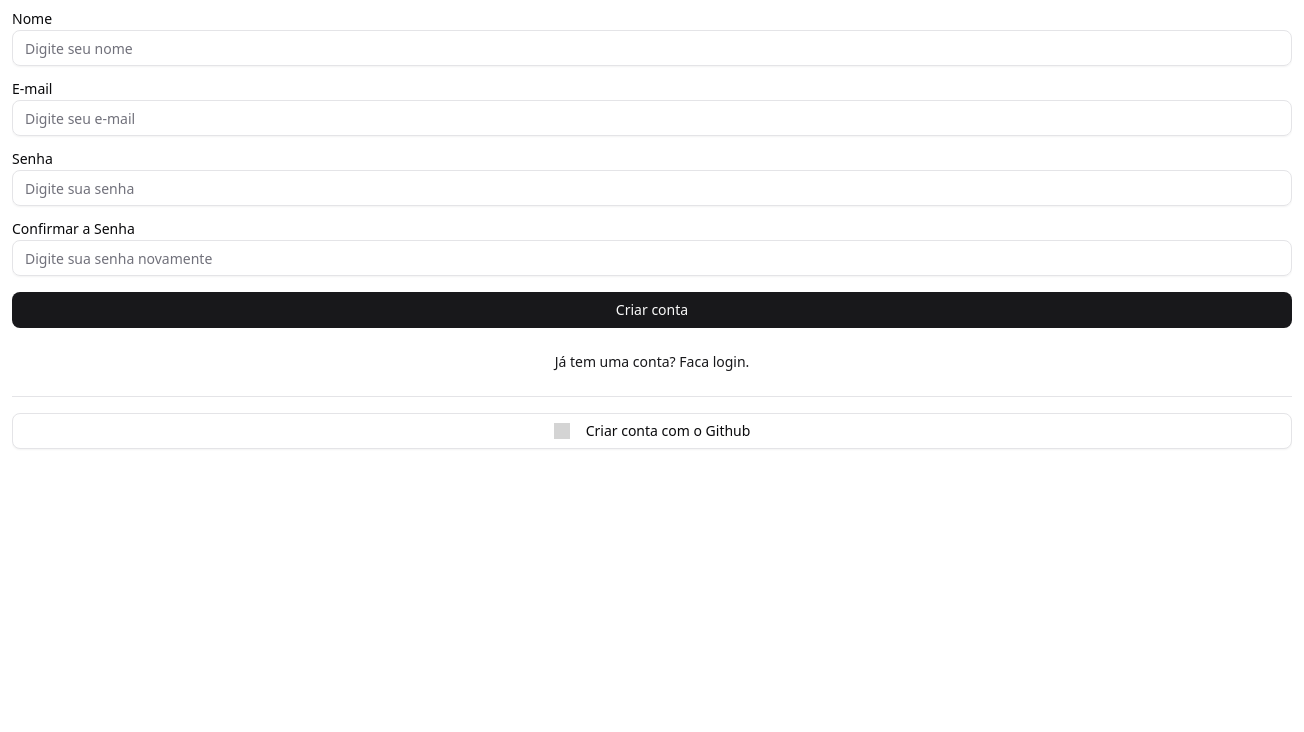
Test: <SignUpForm /> › should show multiple field validation errors
Click the button "Criar conta".
click(652, 310)  # box left=12, top=292, right=1292, bottom=328
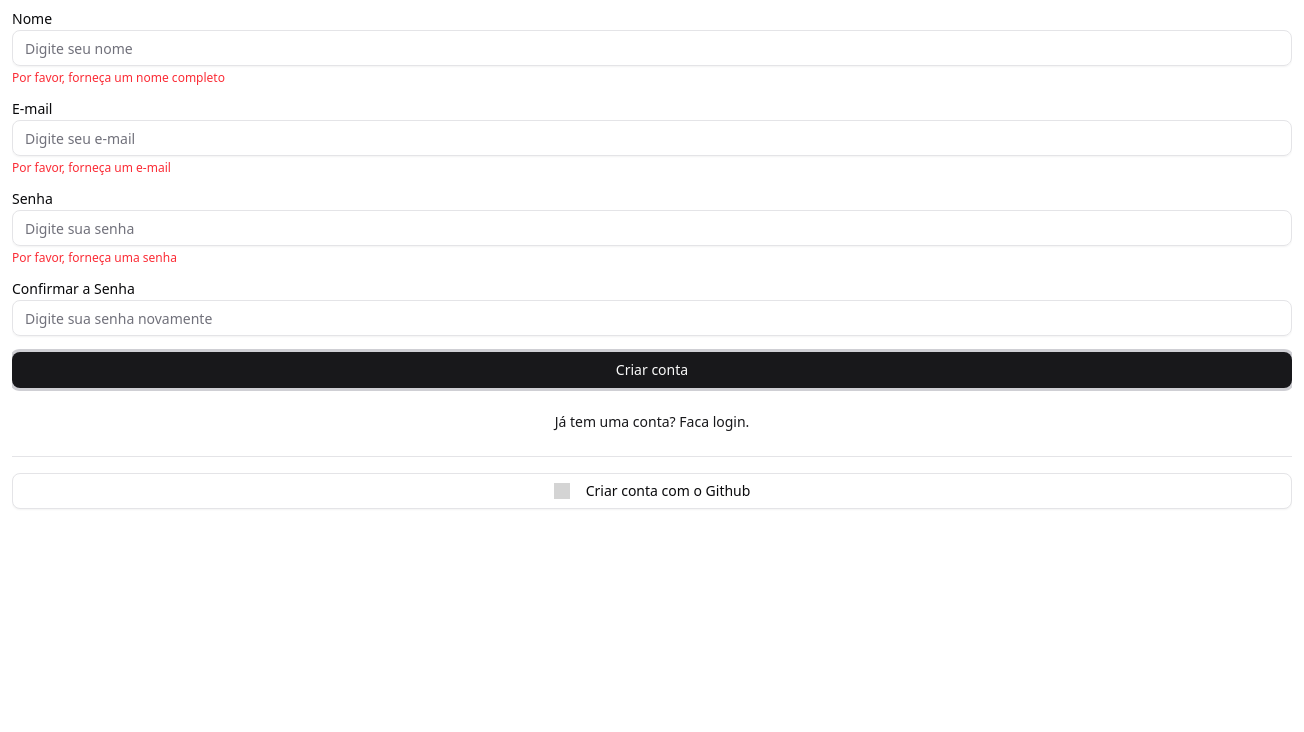
Expected: the text "Por favor, forneça um nome completo" is shown, left=12, top=69, right=225, bottom=86
Expected: the text "Por favor, forneça um e-mail" is shown, left=12, top=159, right=171, bottom=176
Expected: the text "Por favor, forneça uma senha" is shown, left=12, top=249, right=177, bottom=266
